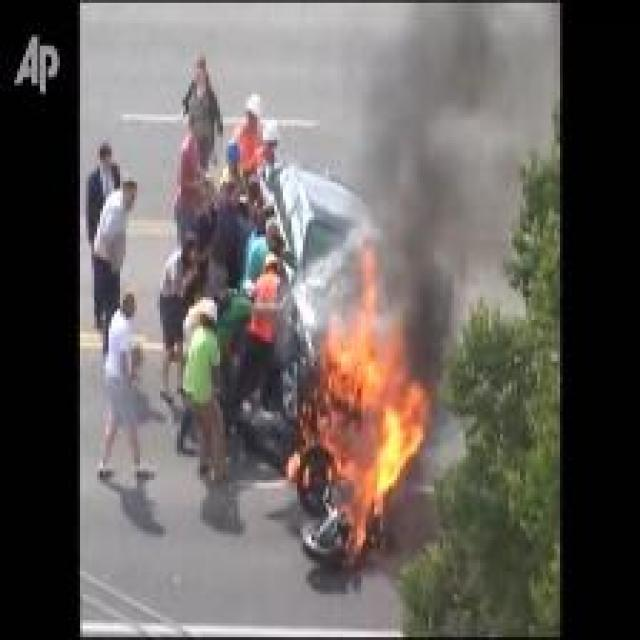Fire: (287, 250, 430, 550)
